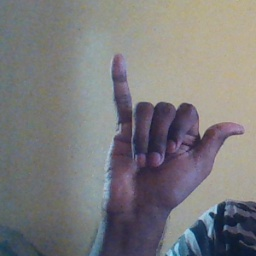J: (95, 52, 250, 208)
